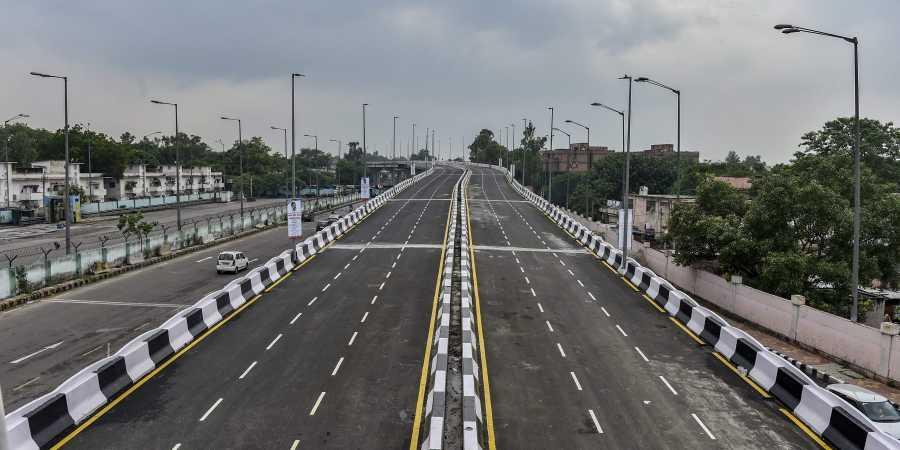car: (211, 246, 248, 275)
